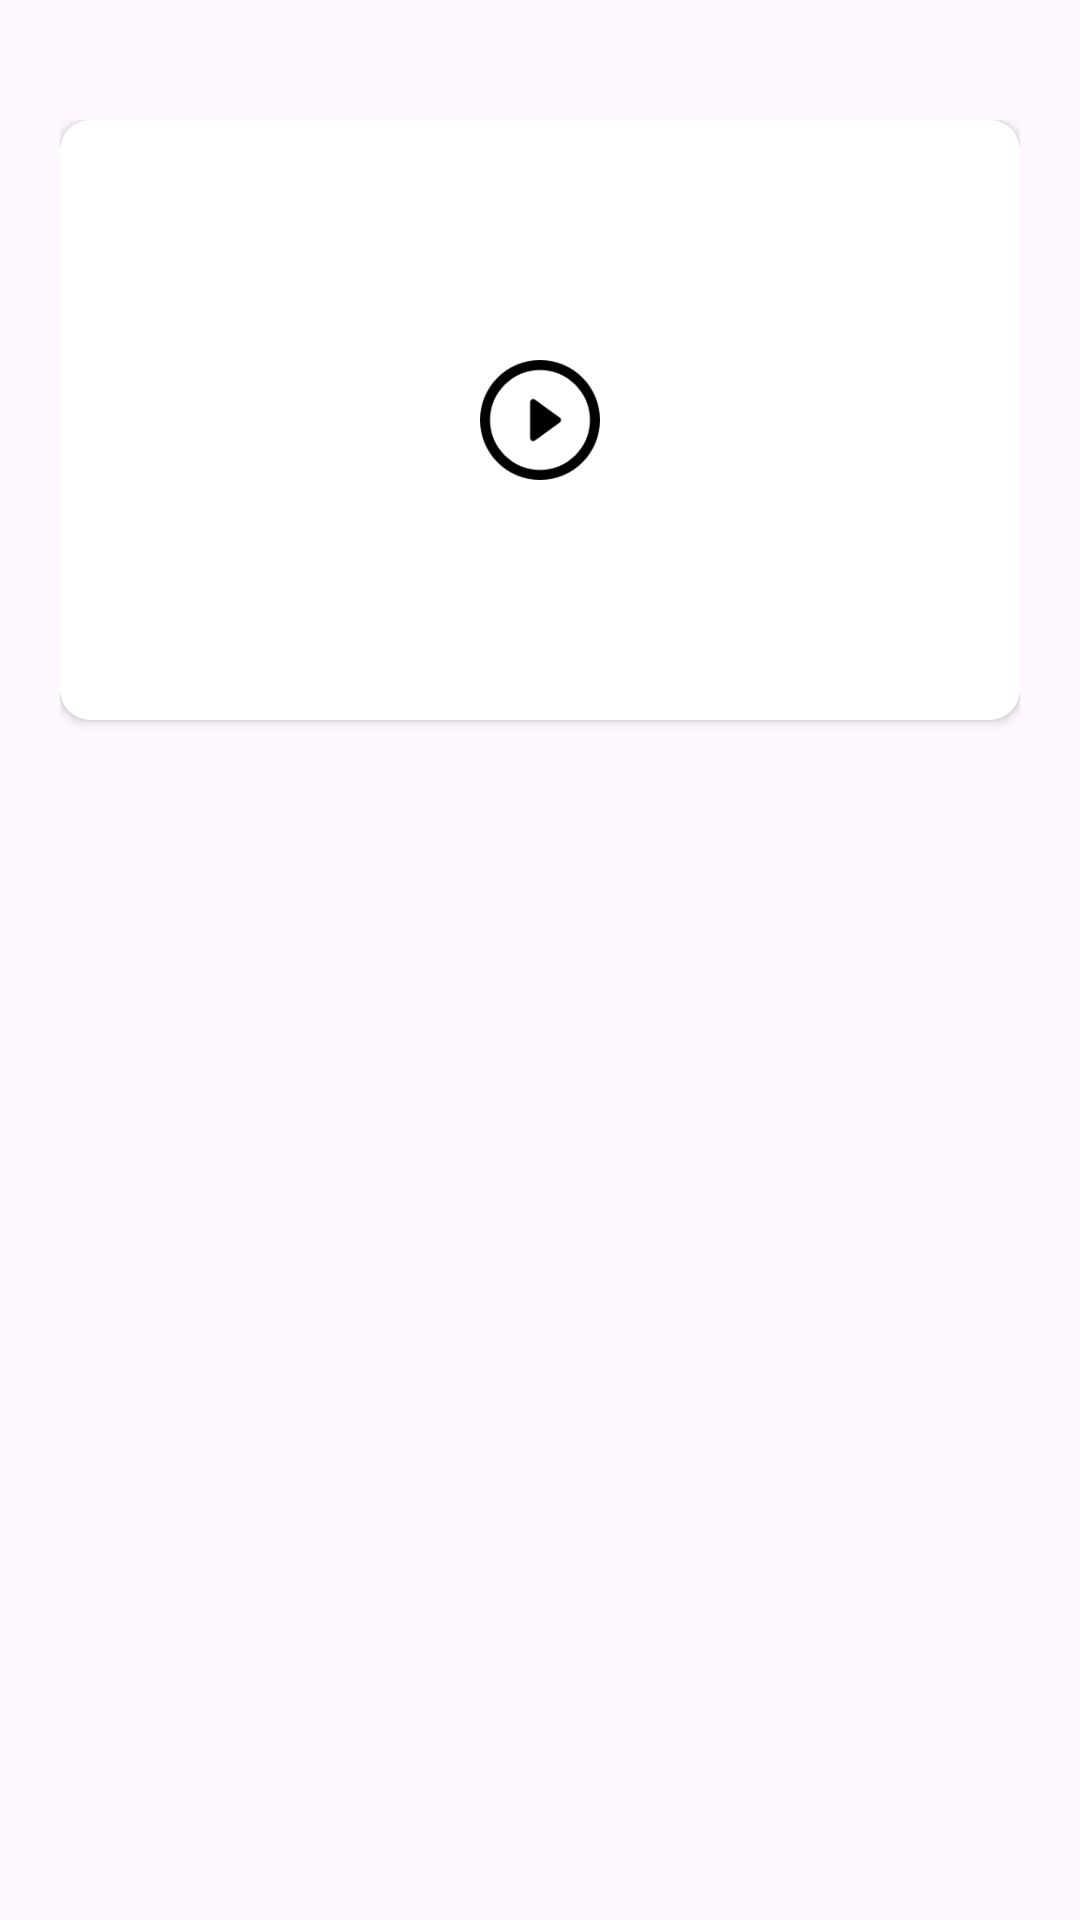

Screen size 1080 × 1920. Icon name, then its box in pixels as (x1, y1, x2, y2):
video: (480, 360, 600, 480)
